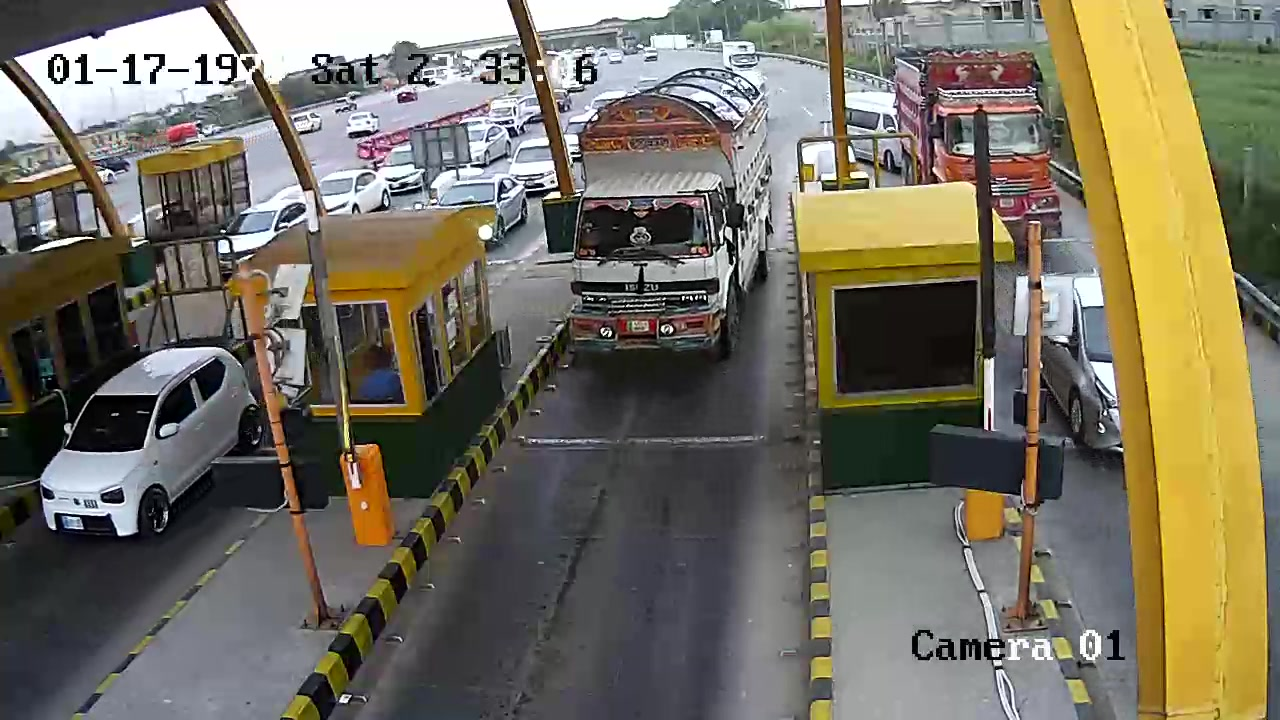F5: (560, 66, 765, 374)
